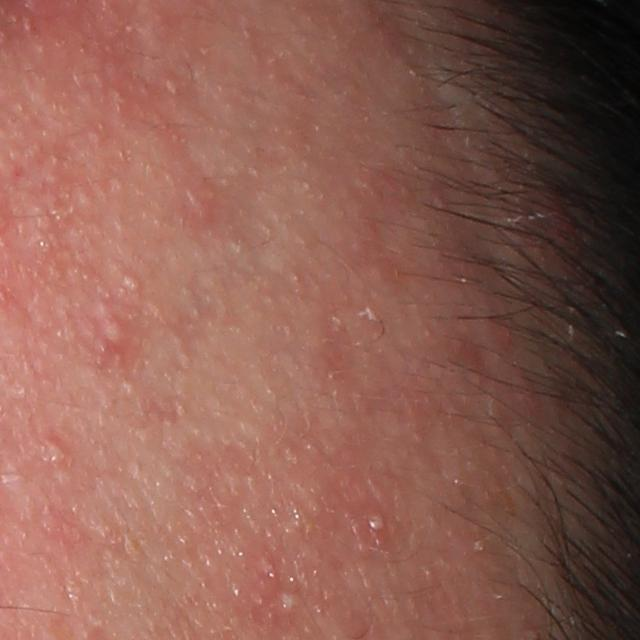comedo: (121, 273, 143, 292)
papule: (100, 319, 130, 355), (492, 315, 516, 352)
pustule: (352, 497, 400, 558)
